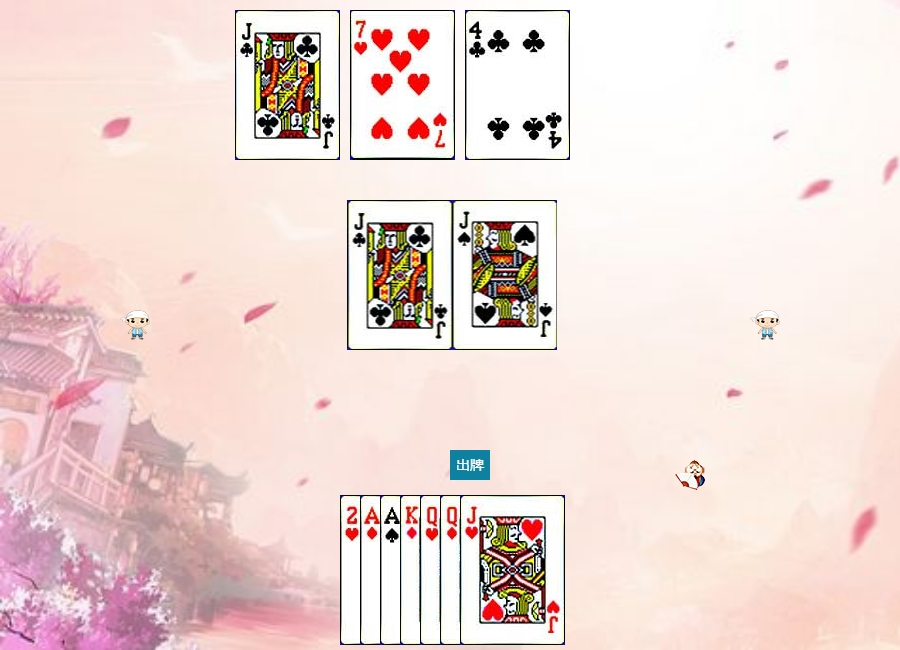11~2: (235, 10, 340, 160), (348, 200, 453, 350)
11~3: (460, 495, 565, 645)
11~4: (453, 200, 558, 350)
12~1: (440, 495, 545, 645)
12~3: (420, 495, 525, 645)
13~1: (400, 495, 505, 645)
14~1: (360, 495, 465, 645)
14~4: (380, 495, 485, 645)
15~3: (340, 495, 445, 645)
4~2: (465, 10, 570, 160)
7~3: (350, 10, 455, 160)
